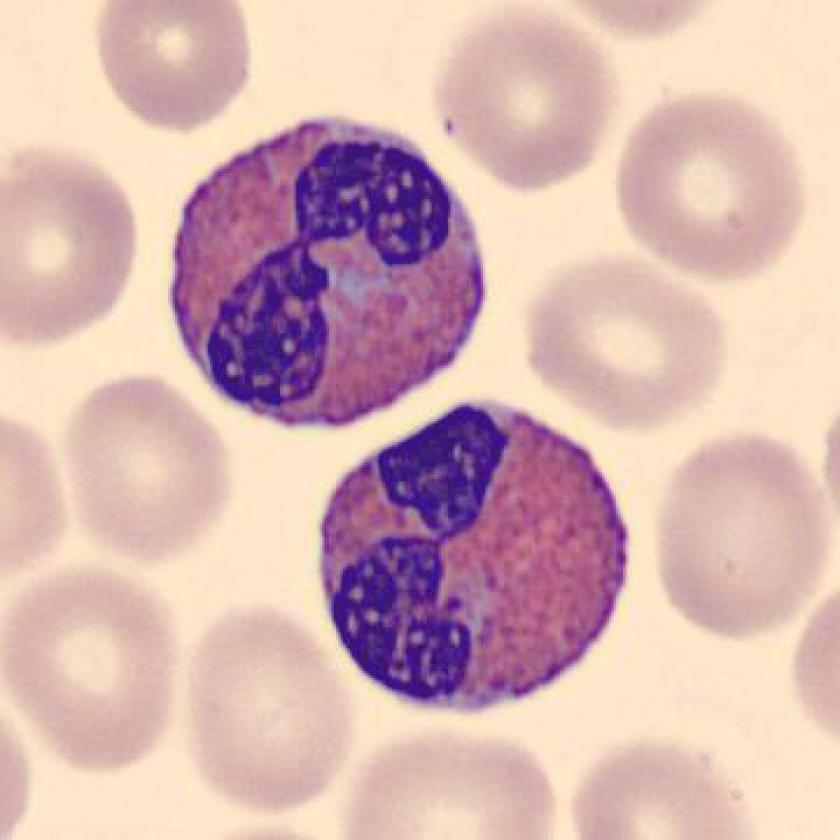eosinophil: (309, 392, 640, 725)
